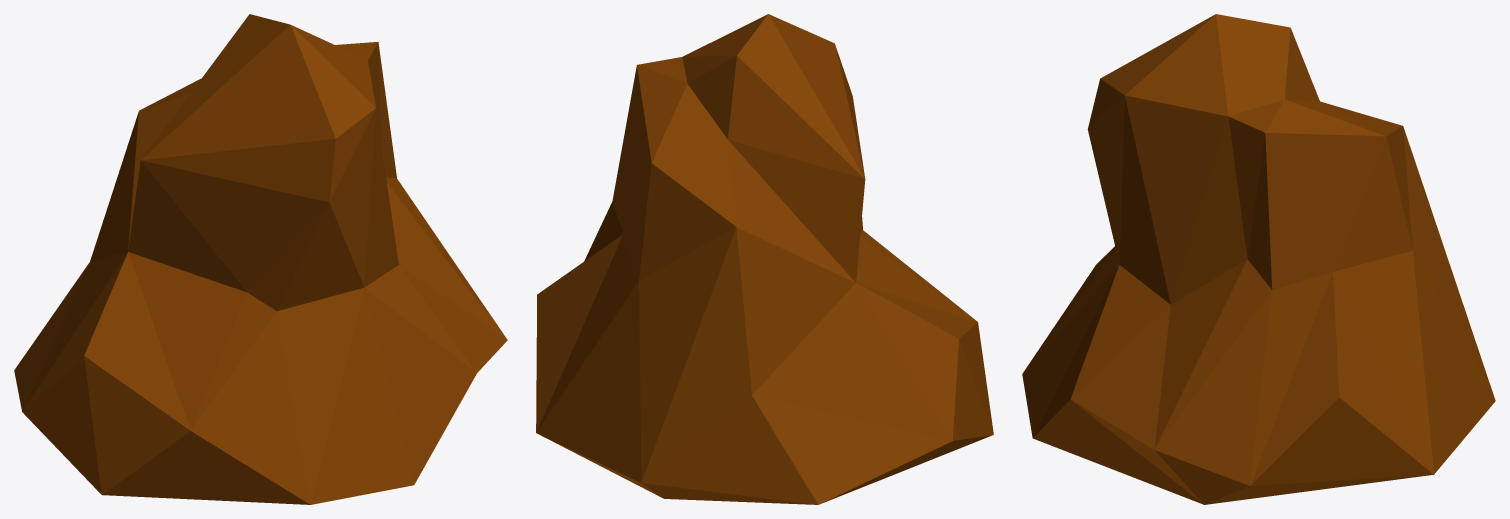
File: rock3.OBJ
The picture shows the model from 3 angles, left to right: view 1: azimuth 30°, elevation 25°; view 2: azimuth 150°, elevation 25°; view 3: azimuth 270°, elevation 25°; orthographic projection. The views are drawn at different scales.
Visible parts, largest first — view 1: rock3; view 2: rock3; view 3: rock3.
Part boxes in pixels (x1,y1,x2,y2): rock3: (14, 14, 507, 504); rock3: (536, 14, 993, 504); rock3: (1022, 14, 1495, 504).
Bounding box in the file's own units: 8.24 × 7.47 × 7.63.
1 material, 1 textured.
